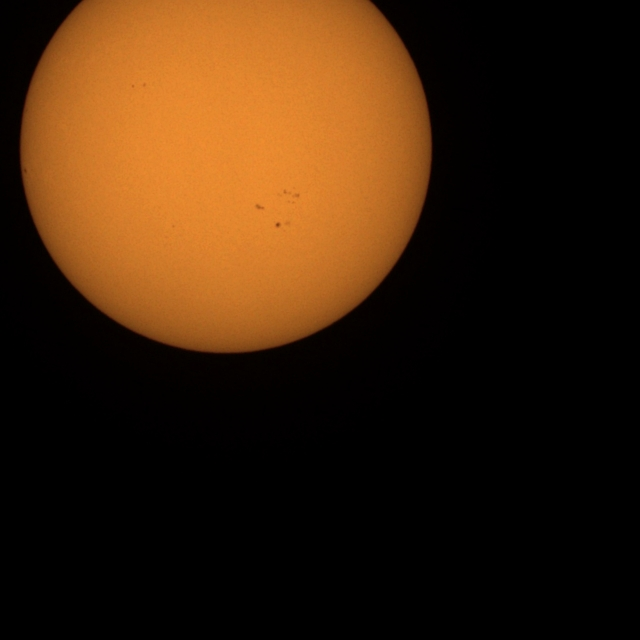sunspot: (277, 188, 300, 204), (275, 220, 291, 232), (254, 203, 265, 211), (23, 168, 28, 175), (142, 82, 147, 88), (130, 84, 135, 89), (172, 224, 176, 228)
